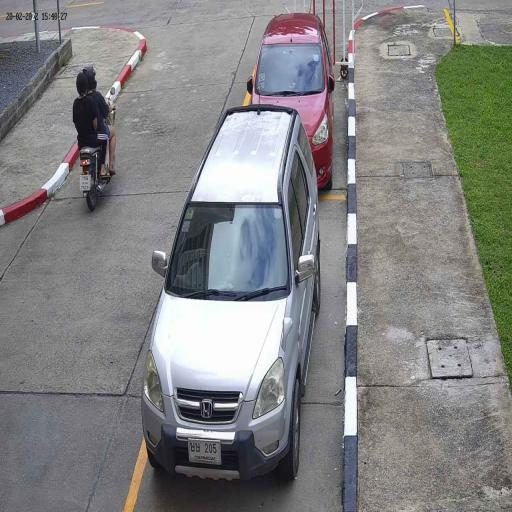car: (142, 105, 322, 484), (247, 11, 335, 192)
motorcycle: (78, 144, 115, 210)
